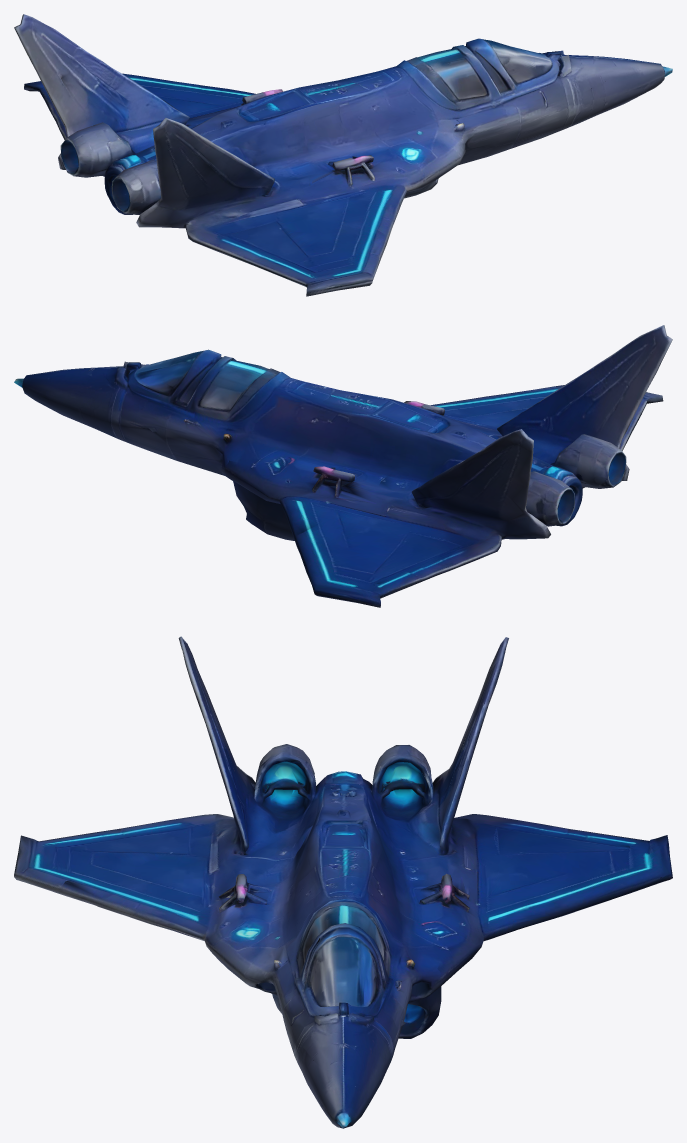
3 renders of one model, top to bottom at view 1: azimuth 30°, elevation 25°; view 2: azimuth 150°, elevation 25°; view 3: azimuth 270°, elevation 25°, orthographic. The views are drawn at different scales.
Parts seen in each view (by area): view 1: tripo_node_22cc884c-8f9d-45e3-b13a-49d36caf28de; view 2: tripo_node_22cc884c-8f9d-45e3-b13a-49d36caf28de; view 3: tripo_node_22cc884c-8f9d-45e3-b13a-49d36caf28de.
Part boxes in pixels (bbox=[...]): tripo_node_22cc884c-8f9d-45e3-b13a-49d36caf28de: bbox=[14, 14, 672, 296]; tripo_node_22cc884c-8f9d-45e3-b13a-49d36caf28de: bbox=[14, 325, 672, 607]; tripo_node_22cc884c-8f9d-45e3-b13a-49d36caf28de: bbox=[14, 636, 672, 1128].
Bounding box in the file's own units: 1 × 0.3354 × 0.8463.
1 material, 1 textured.
